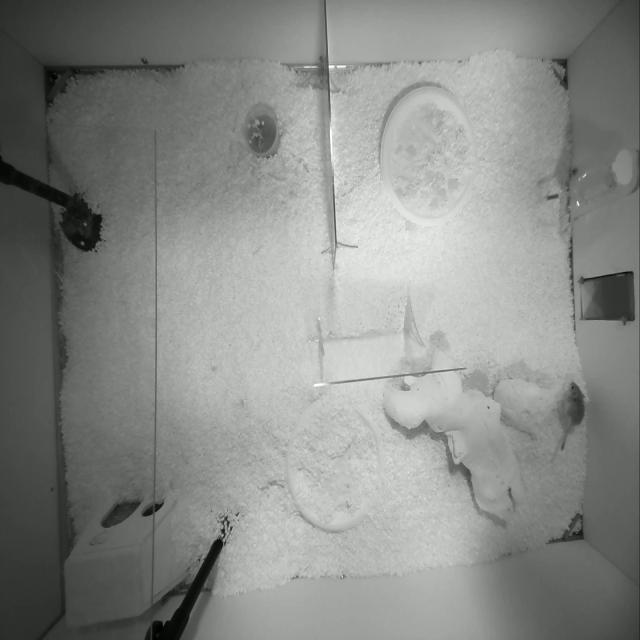pup_fluffy: (558, 382, 585, 449)
